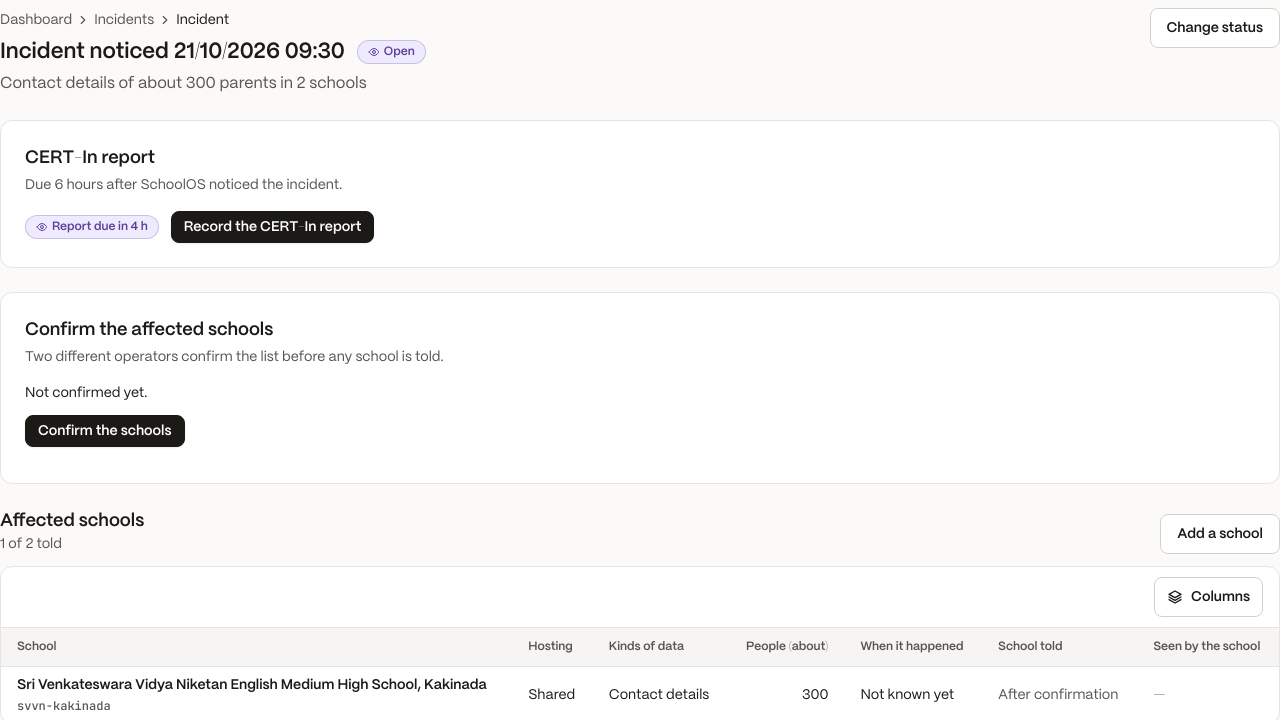
it: close gate and reopen propagation (D49) › the status dialog says why closing would be refused before anything is sent
Click the button "Change status" at x=1215, y=28, box [1150,8,1279,48]
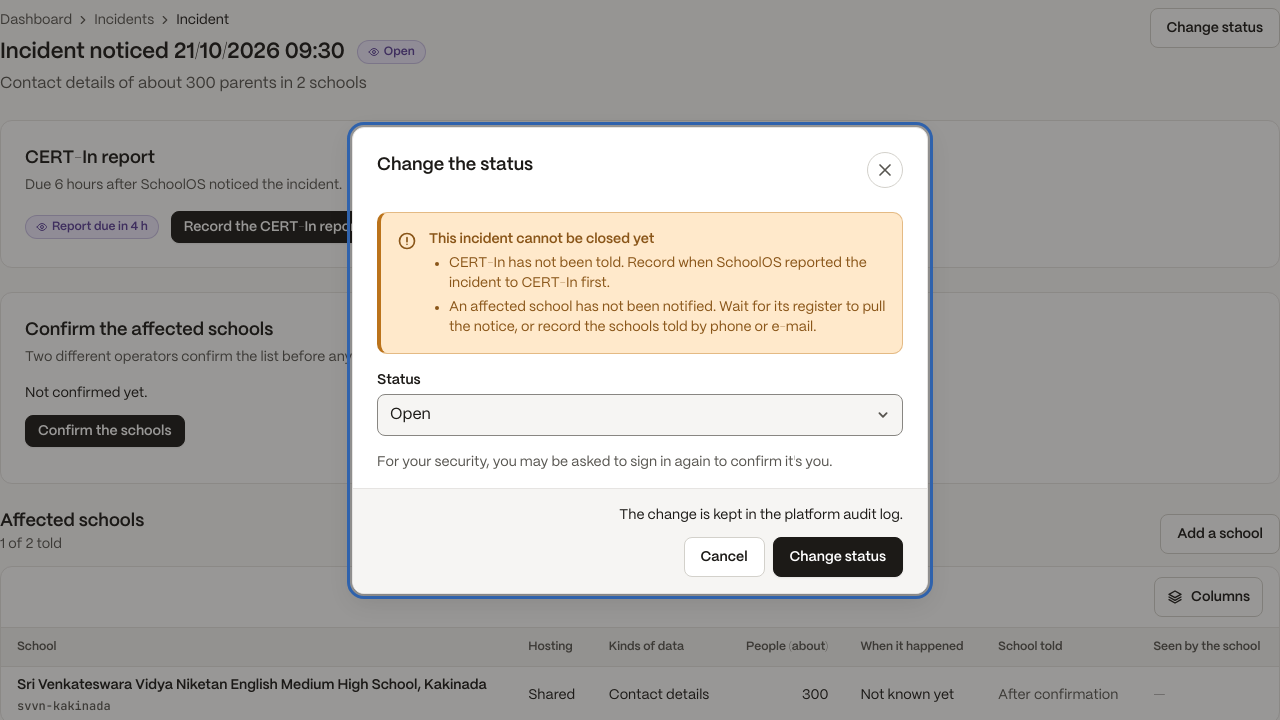
Now the text "This incident cannot be closed yet" is shown, box [429,232,654,246]
Now the list item "CERT-In has not been told. Record when SchoolOS reported the incident to CERT-In first." is shown, box [449,256,867,290]
Now the list item "An affected school has not been notified. Wait for its register to pull the notice, or record the schools told by phone " is shown, box [449,300,885,334]
